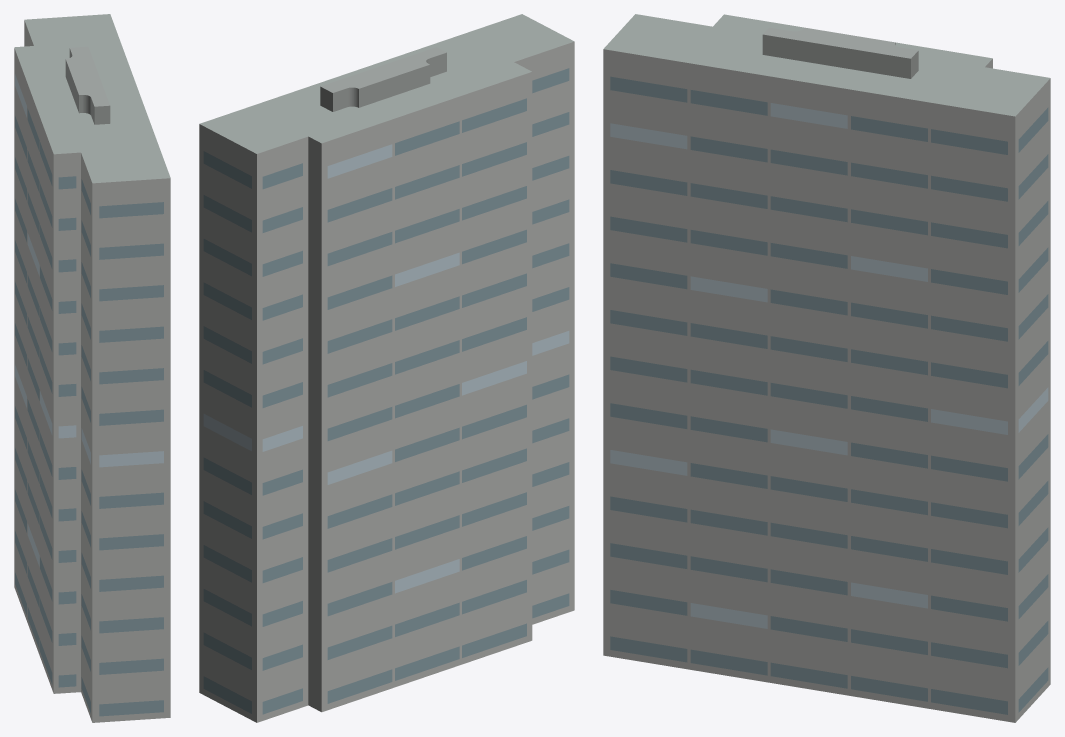
Rendered from fallback-jamsil-els-116.glb.
3 views of the same model, side by side, from view 1: azimuth 30°, elevation 25°; view 2: azimuth 150°, elevation 25°; view 3: azimuth 270°, elevation 25° (orthographic). The views are drawn at different scales.
Parts seen in each view (by area): view 1: fallback-jamsil-els-116; view 2: fallback-jamsil-els-116; view 3: fallback-jamsil-els-116.
Boxes of the visible parts, left/top/right/bottom form: fallback-jamsil-els-116: left=14, top=14, right=170, bottom=722; fallback-jamsil-els-116: left=199, top=14, right=574, bottom=722; fallback-jamsil-els-116: left=603, top=14, right=1050, bottom=722.
Size of the model in its own units: 25.97 by 74 by 47.88.
